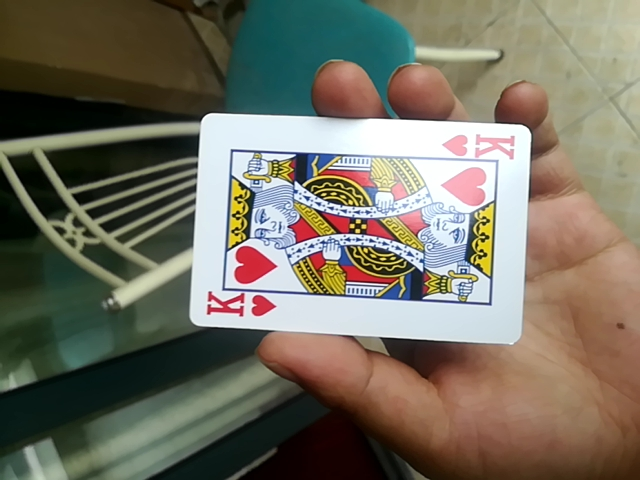hx k: (183, 114, 526, 343)
